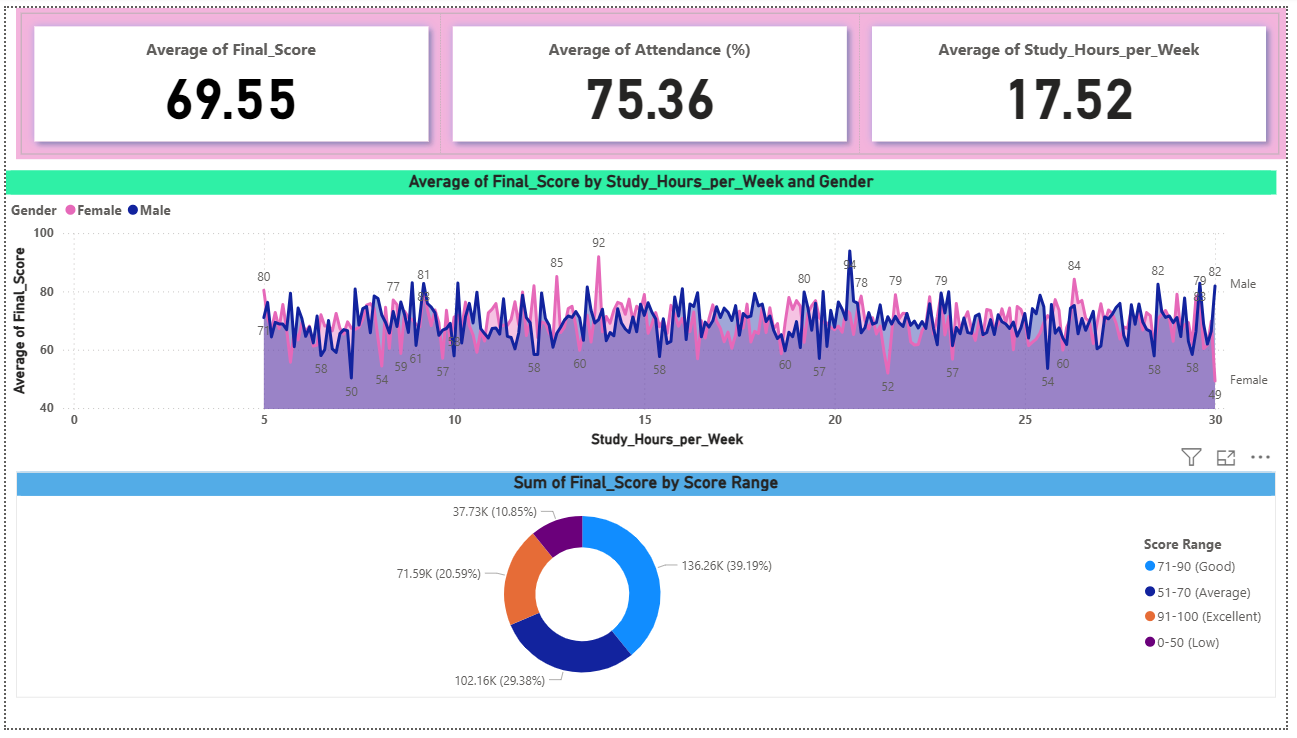

What the dashboard file says about the page in this screenshot:
{"tool":"powerbi","page":{"name":"DashBoard 4","canvas":[1280,720],"ordinal":3},"visuals":[{"type":"cardVisual","fields":{"Data":["Avg(Students Performance Dataset.Final_Score)","Avg(Students Performance Dataset.Attendance (%))","Avg(Students Performance Dataset.Study_Hours_per_Week)"]},"box":[10,0,1270,151.2],"z":0},{"type":"lineChart","fields":{"Category":["Students Performance Dataset.Study_Hours_per_Week"],"Y":["Avg(Students Performance Dataset.Final_Score)"],"Series":["Students Performance Dataset.Gender"]},"box":[0,162.5,1270,281.2],"z":1000},{"type":"donutChart","fields":{"Y":["Sum(Students Performance Dataset.Final_Score)"],"Category":["Students Performance Dataset.Score Range"]},"box":[10,463.8,1260,226.2],"z":2000}]}

Visuals, with their boxes in screenshot pixels (x1, y1, x2, y2), scaled from the page's 1280x720 canvas onto the 1297x738 screenshot:
cardVisual - Avg(Students Performance Dataset.Final_Score) x Avg(Students Performance Dataset.Attendance (%)): [10, 0, 1296, 155]
lineChart - Students Performance Dataset.Study_Hours_per_Week x Avg(Students Performance Dataset.Final_Score): [0, 167, 1287, 455]
donutChart - Sum(Students Performance Dataset.Final_Score) x Students Performance Dataset.Score Range: [10, 475, 1287, 707]
